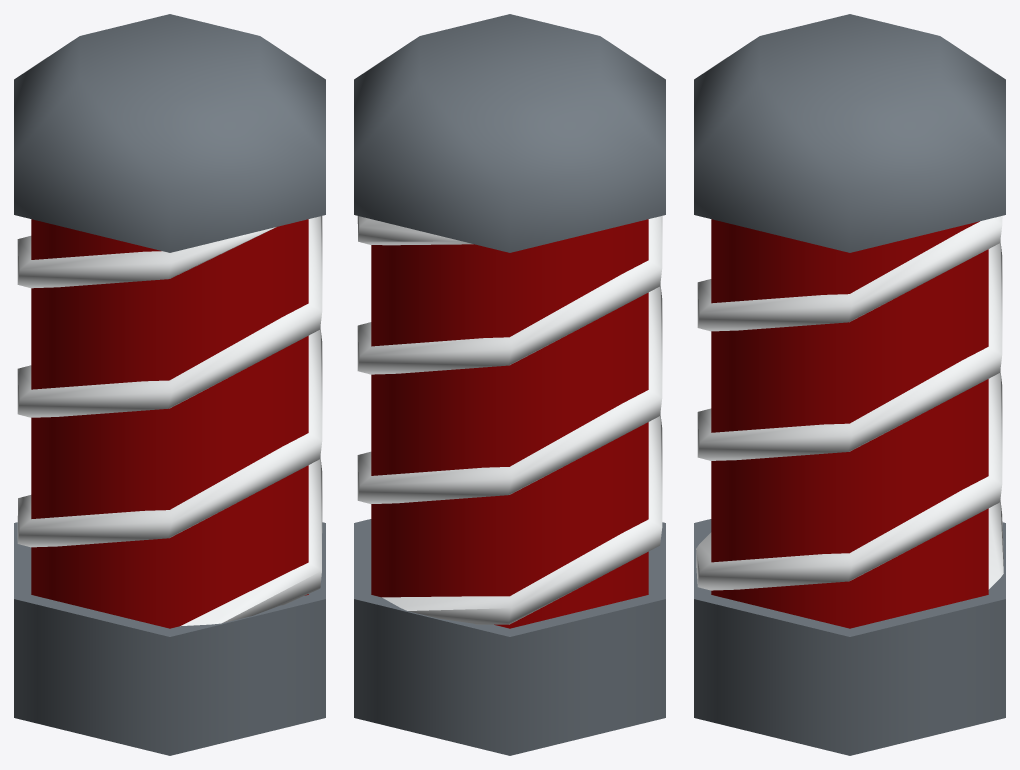
File: posoh3.fbx
3 views of the same model, side by side, from view 1: azimuth 30°, elevation 25°; view 2: azimuth 150°, elevation 25°; view 3: azimuth 270°, elevation 25° (orthographic).
Parts seen in each view (by area): view 1: posoh3; view 2: posoh3; view 3: posoh3.
Boxes of the visible parts, bbox=[...] form: posoh3: bbox=[14, 14, 325, 755]; posoh3: bbox=[354, 14, 665, 755]; posoh3: bbox=[694, 14, 1005, 755].
Bounding box in the file's own units: 8.75 × 16.69 × 7.58.
